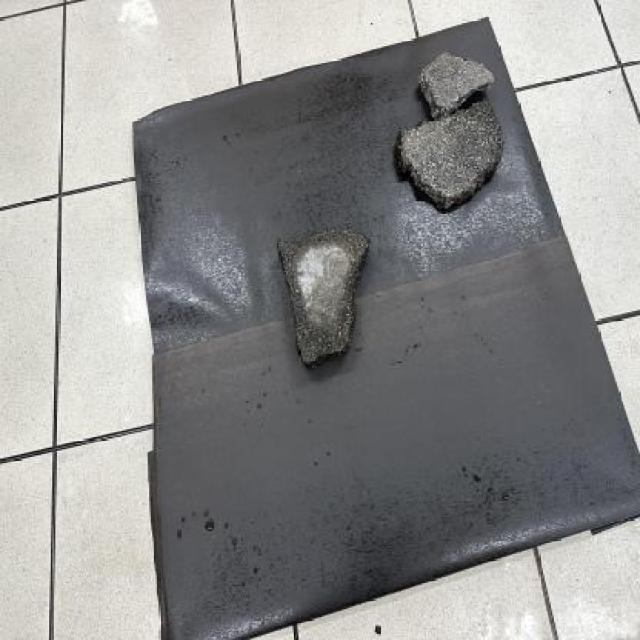Road Debris: (296, 283, 367, 359), (447, 117, 504, 200), (417, 53, 465, 110)
